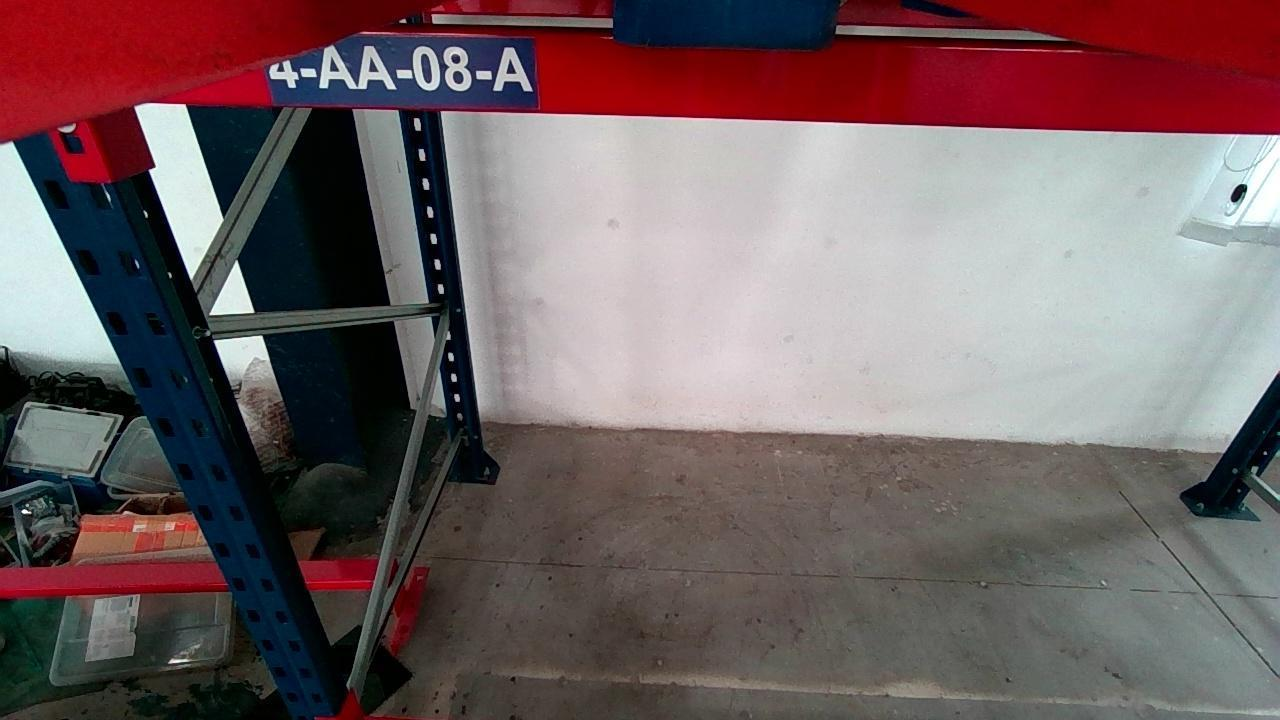h_rack: (152, 32, 1278, 135)
